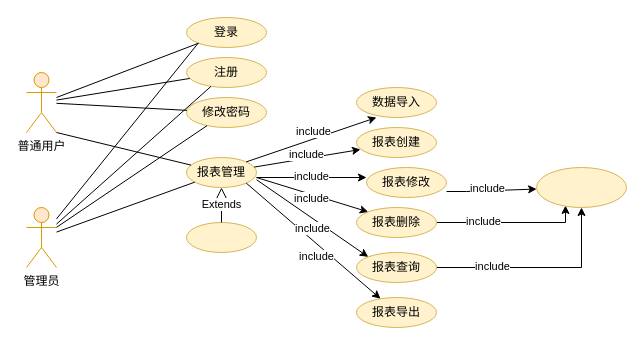
Image size: 644x345. Some labels were removed from this diagram. The shapes that lost their labels are listed below. From the top down, each one's box as (x1, y1, x2, y2) in pixels, then its label:
(536, 166, 626, 208): 用户权限验证
(186, 222, 256, 252): 数据分析
